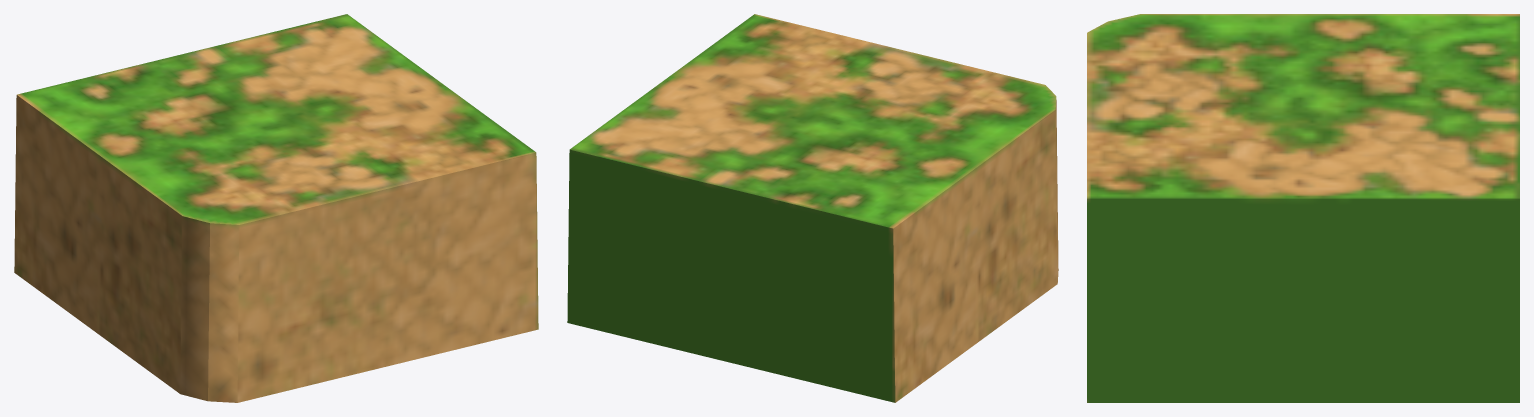
Rendered from modular_corner2.fbx.
The picture shows the model from 3 angles, left to right: view 1: azimuth 30°, elevation 25°; view 2: azimuth 150°, elevation 25°; view 3: azimuth 270°, elevation 25°; orthographic projection. The views are drawn at different scales.
Parts seen in each view (by area): view 1: modular_corner3; view 2: modular_corner3; view 3: modular_corner3.
Part boxes in pixels (x1,y1,x2,y2): modular_corner3: (14, 14, 538, 402); modular_corner3: (567, 14, 1058, 402); modular_corner3: (1087, 14, 1519, 402).
Bounding box in the file's own units: 871 × 441 × 852.
